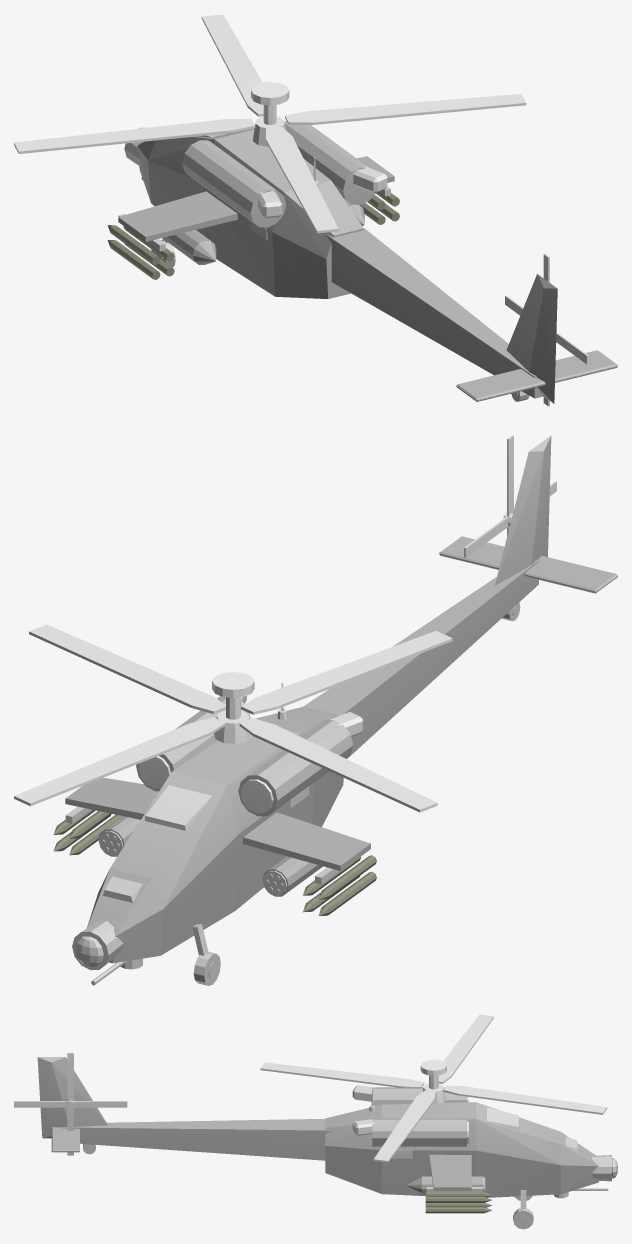
Rendered from heli_blue.glb.
3 renders of one model, top to bottom at view 1: azimuth 30°, elevation 25°; view 2: azimuth 150°, elevation 25°; view 3: azimuth 270°, elevation 25°, orthographic. The views are drawn at different scales.
Visible parts, largest first — view 1: body, rotor, trotor; view 2: body, rotor, trotor; view 3: body, rotor, trotor.
Part boxes in pixels (x1,y1,x2,y2): body: (107,121,617,403); rotor: (14,14,526,233); trotor: (505,253,588,406); body: (53,435,617,985); rotor: (14,624,452,812); trotor: (464,435,556,557); body: (37,1057,617,1229); rotor: (260,1014,607,1162); trotor: (14,1052,127,1155).
Bounding box in the file's own units: 7.36 × 3.87 × 12.8.
